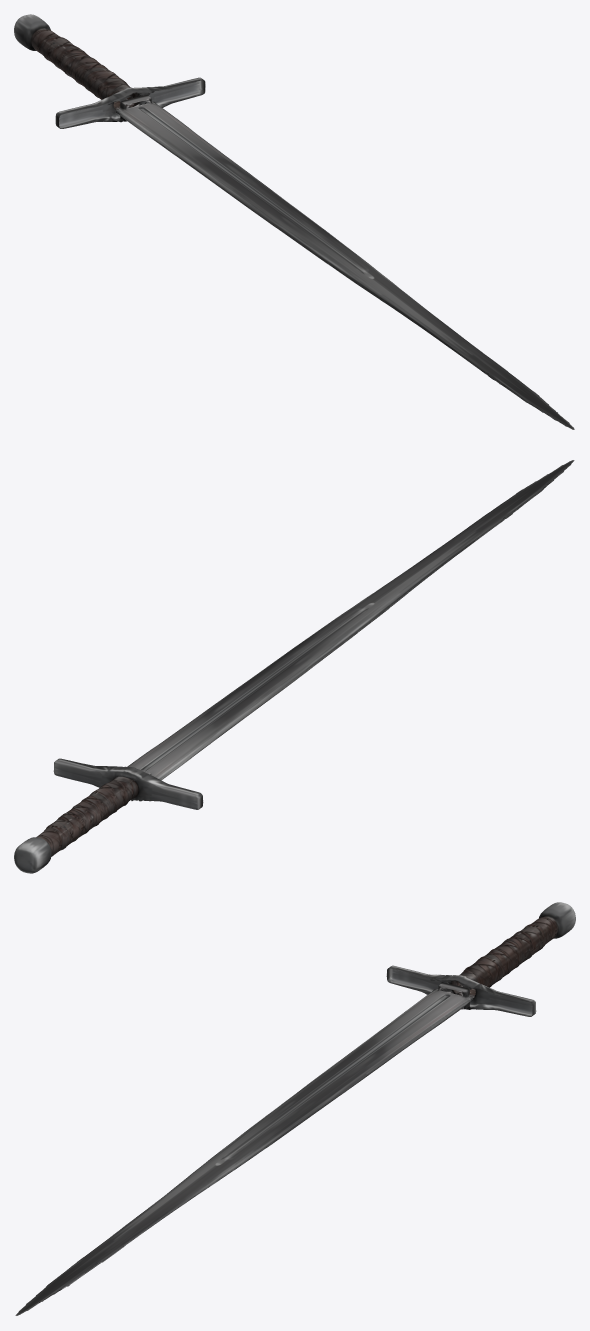
Rendered from longsword.glb.
The picture shows the model from 3 angles, top to bottom: view 1: azimuth 30°, elevation 25°; view 2: azimuth 150°, elevation 25°; view 3: azimuth 330°, elevation 25°; orthographic projection.
Visible parts, largest first — view 1: Untitled; view 2: Untitled; view 3: Untitled.
Boxes of the visible parts, x1,y1,x2,y2 form: Untitled: (14, 14, 574, 429); Untitled: (14, 460, 574, 873); Untitled: (15, 902, 575, 1315).
Size of the model in its own units: 0.1536 by 0.029 by 1.
Materials: 1 (1 with a texture image).
